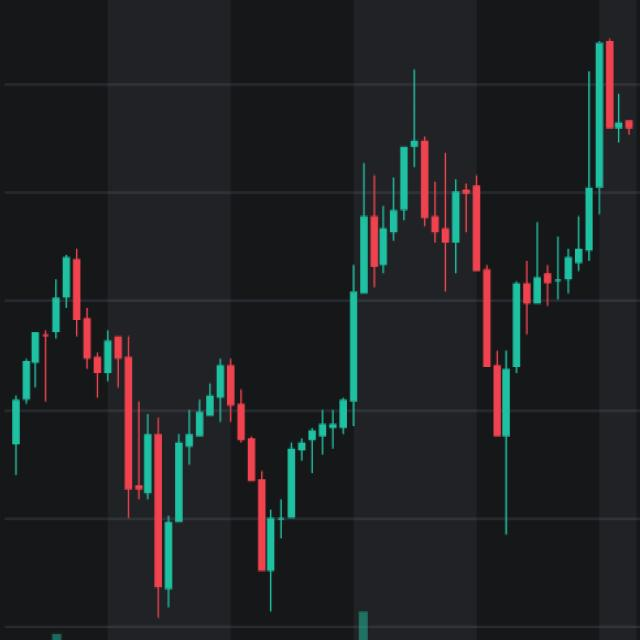Resistance-breakout: (166, 80, 422, 610)
